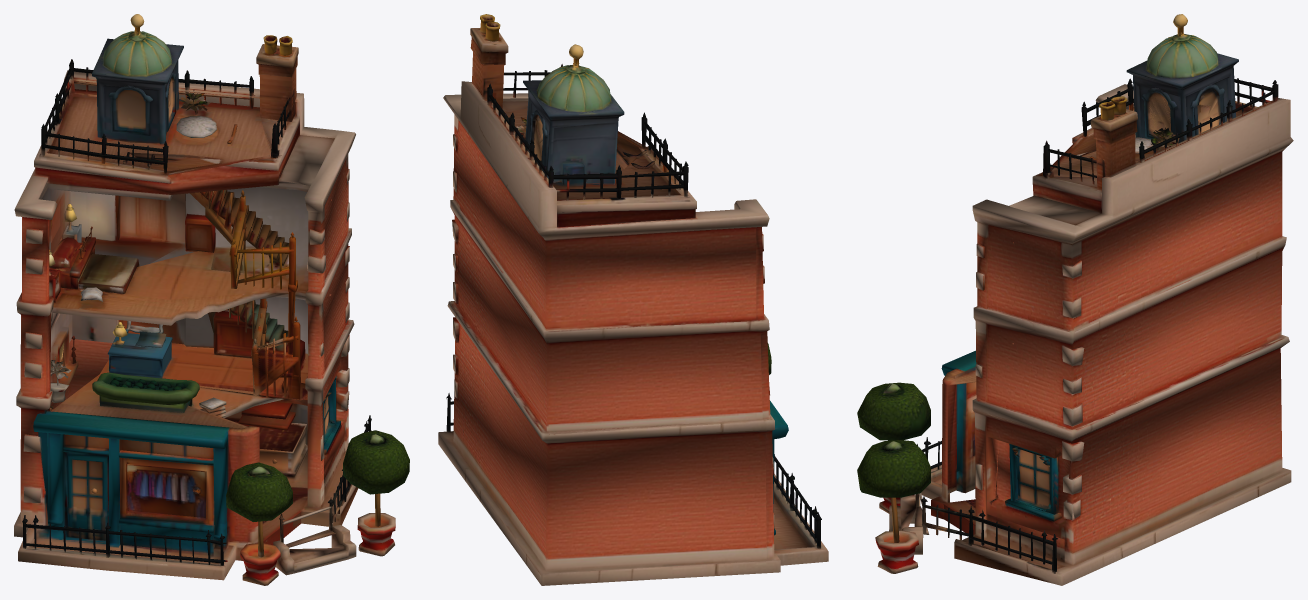
The model's file is tier3-lv13.glb.
The picture shows the model from 3 angles, left to right: view 1: azimuth 30°, elevation 25°; view 2: azimuth 150°, elevation 25°; view 3: azimuth 270°, elevation 25°; orthographic projection. The views are drawn at different scales.
Parts seen in each view (by area): view 1: tripo_node_4fc95506-1f6b-4e9c-9d82-009eaaa54942; view 2: tripo_node_4fc95506-1f6b-4e9c-9d82-009eaaa54942; view 3: tripo_node_4fc95506-1f6b-4e9c-9d82-009eaaa54942.
Part boxes in pixels (bbox=[...]): tripo_node_4fc95506-1f6b-4e9c-9d82-009eaaa54942: bbox=[14, 14, 409, 585]; tripo_node_4fc95506-1f6b-4e9c-9d82-009eaaa54942: bbox=[438, 14, 828, 585]; tripo_node_4fc95506-1f6b-4e9c-9d82-009eaaa54942: bbox=[857, 14, 1293, 585].
Size of the model in its own units: 0.795 by 0.998 by 0.7927.
Materials: 1 (1 with a texture image).
